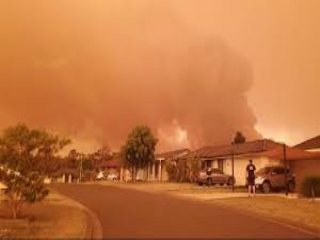smoke: (156, 23, 270, 146)
